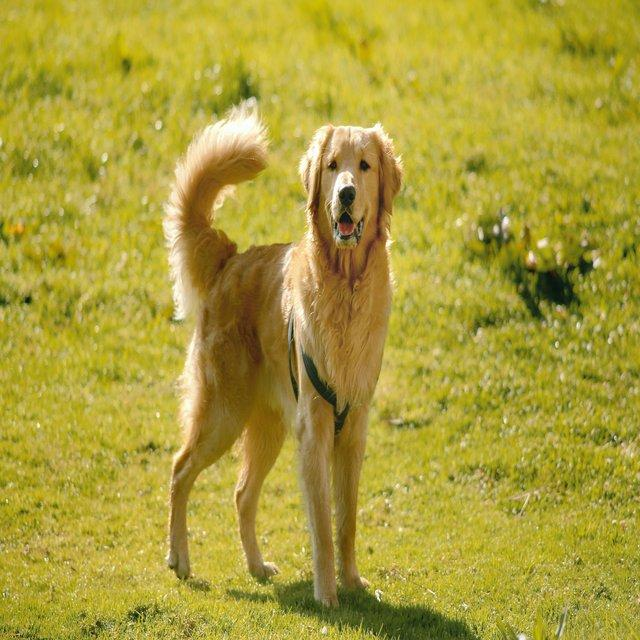retriever: (160, 97, 403, 609)
